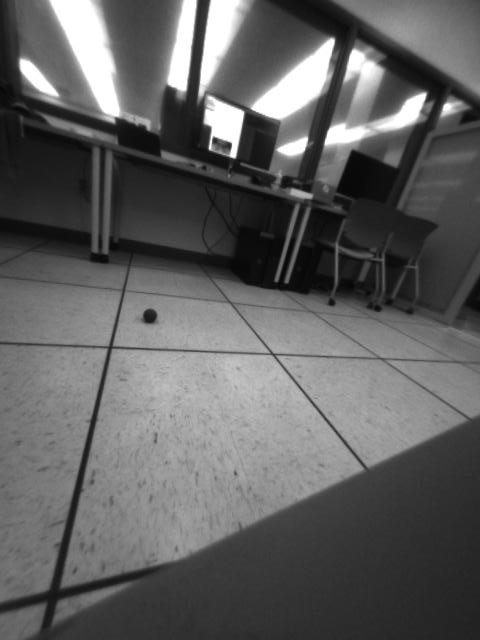dogtoy: (137, 301, 163, 329)
